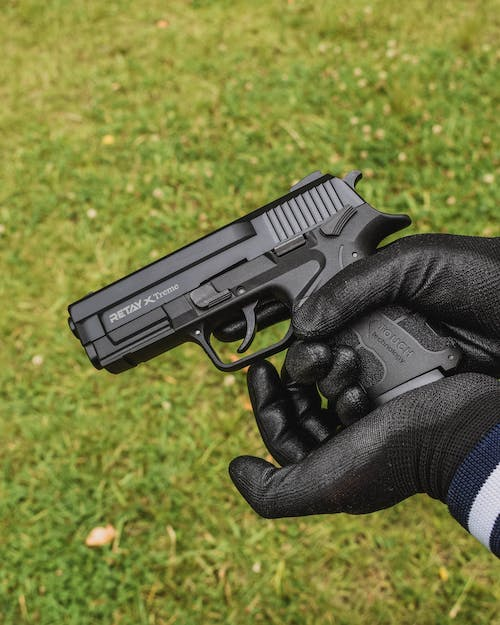gun: (62, 171, 468, 412)
